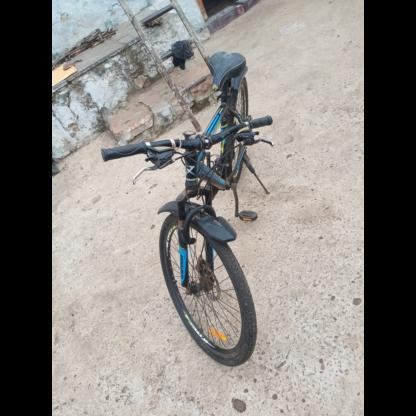Bicycle: (90, 36, 299, 371)
